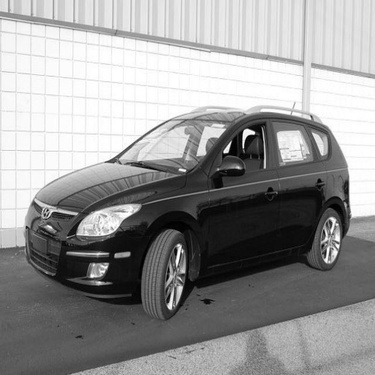car: (17, 90, 353, 321)
